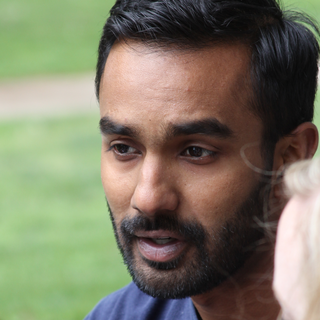eye: (168, 139, 223, 166), (103, 134, 146, 166)
